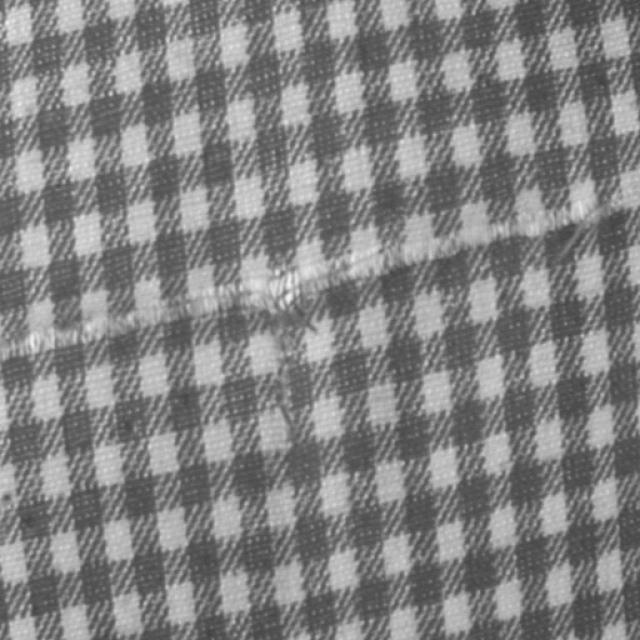Thread-Defect: (8, 194, 632, 361)
